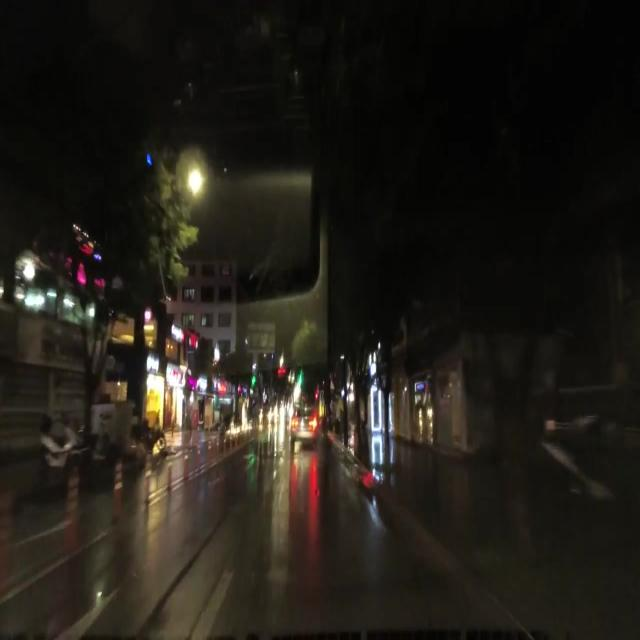Car: (288, 401, 319, 441)
